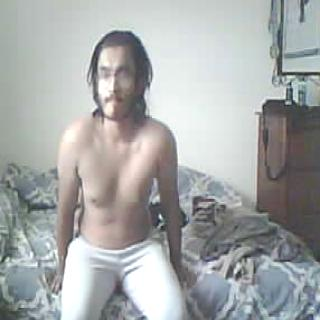White Sweatpants: (60, 239, 190, 320)
